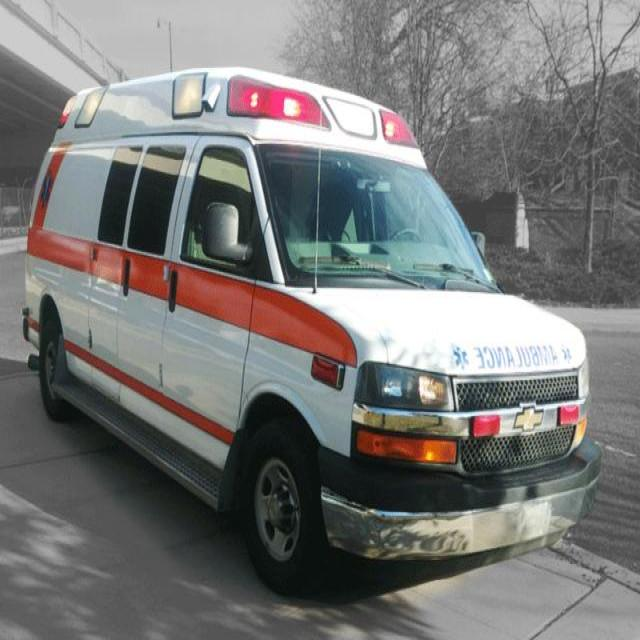emergency-vehicle: (19, 59, 598, 586)
